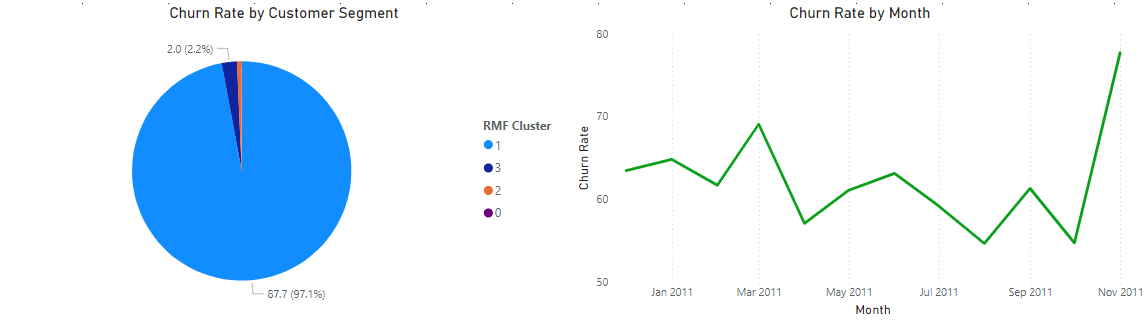

The page's visual inventory and layout, read from the dashboard file:
{"tool":"powerbi","page":{"name":"Churn Rate by Segments","canvas":[1280,720],"ordinal":1},"visuals":[{"type":"pieChart","title":"Churn Rate by Customer Segment","fields":{"Category":["churn_rate_per_segment.RMF Cluster"],"Y":["Sum(churn_rate_per_segment.Churn Rate)"]},"box":[0,368,640,352],"z":0},{"type":"lineChart","title":"Churn Rate by Month","fields":{"Y":["Sum(churn_over_time.Churn_Rate)"],"Category":["churn_over_time.Month.Variation.Date Hierarchy.Month"]},"box":[640,368,640,352],"z":1000}]}

Visuals, with their boxes on the page's 1280x720 design canvas (x1, y1, x2, y2). These are canvas units, not pixel positions in the 1148x320 screenshot, which may show the page scaled, cropped or inside an application window:
"Churn Rate by Customer Segment" pieChart: 0/368/640/720
"Churn Rate by Month" lineChart: 640/368/1280/720
